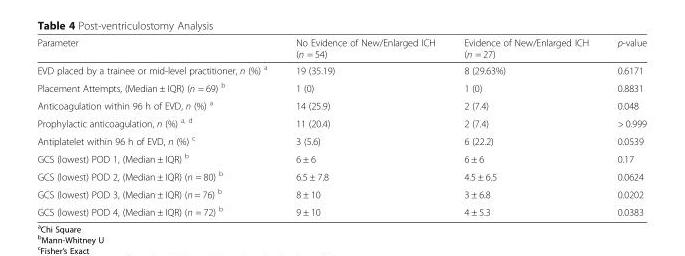table: (36, 36, 646, 217)
table column: (36, 36, 280, 217), (280, 36, 449, 217), (449, 36, 602, 217), (602, 36, 646, 217)
table column header: (36, 36, 646, 61)
table row: (36, 36, 646, 61), (36, 95, 646, 113), (36, 113, 646, 131), (36, 131, 646, 149), (36, 166, 646, 184), (36, 184, 646, 202), (36, 61, 646, 78), (36, 78, 646, 95), (36, 149, 646, 166), (36, 202, 646, 217)
